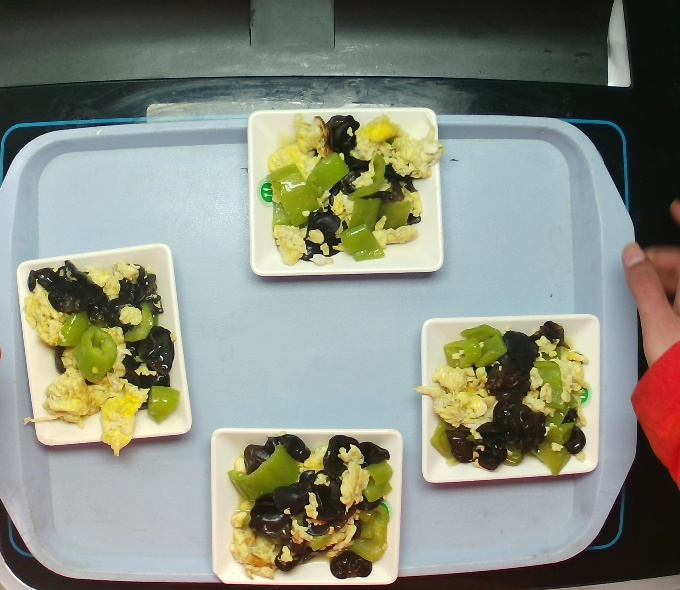wcq-MuErDanHuang: (215, 418, 403, 589), (22, 267, 177, 440), (264, 114, 432, 266), (421, 328, 592, 471)
